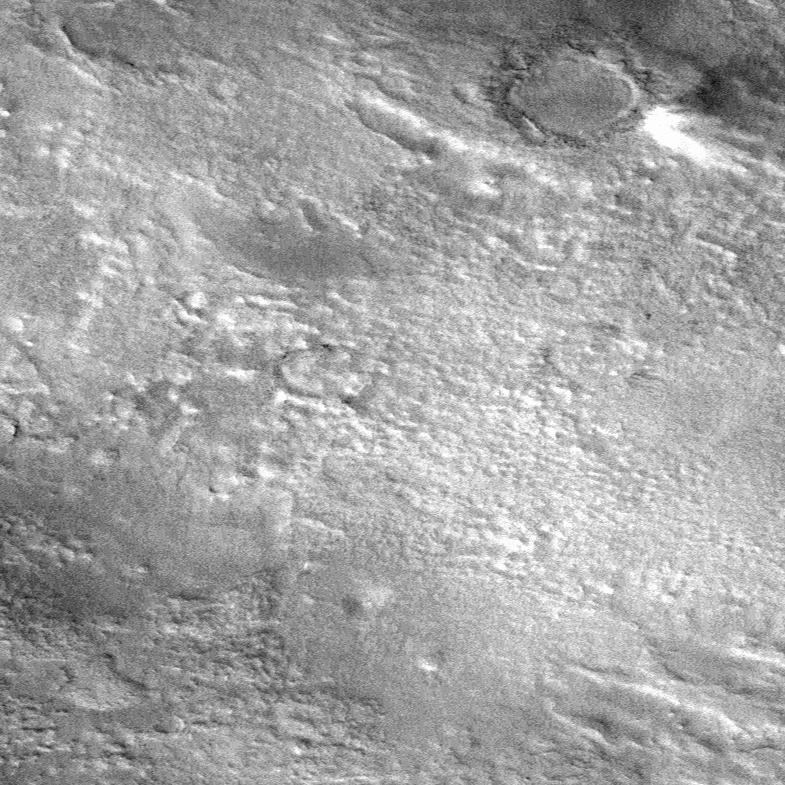dust_devil: (634, 50, 785, 182)
